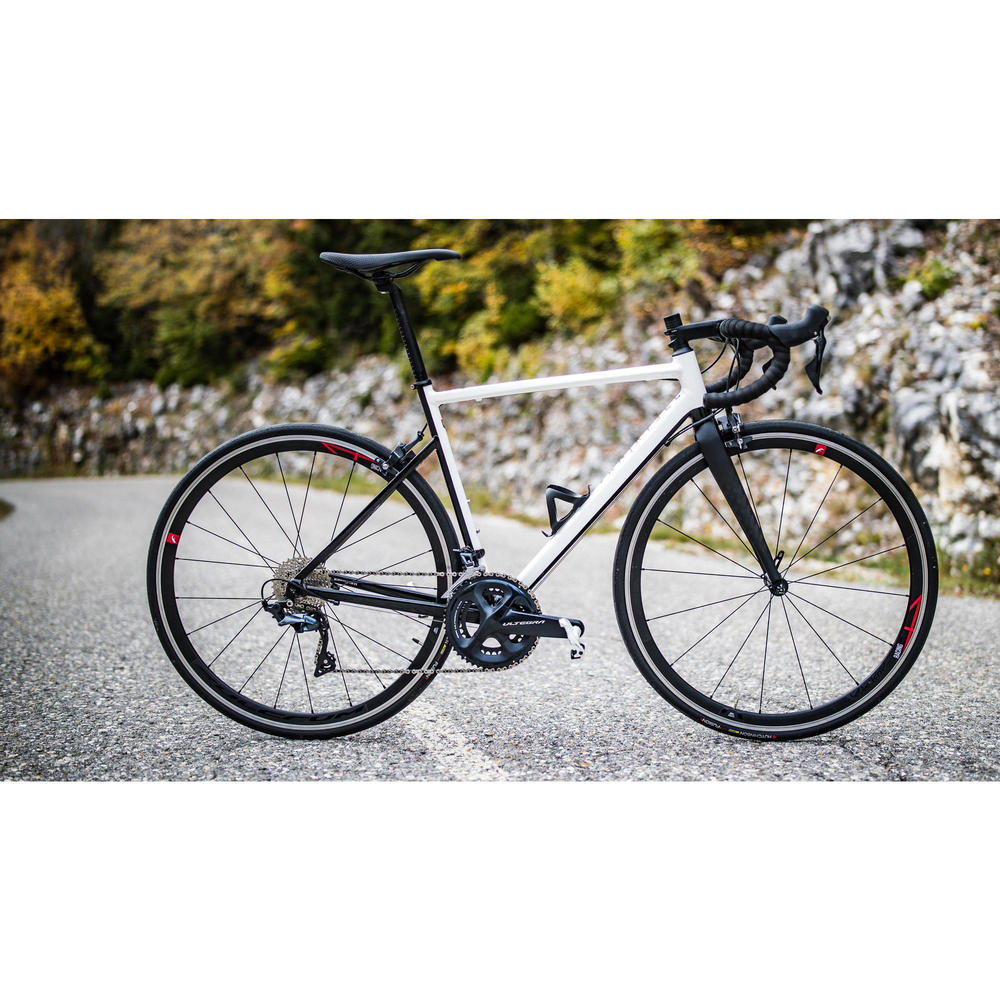RoadBike: (139, 237, 939, 750)
